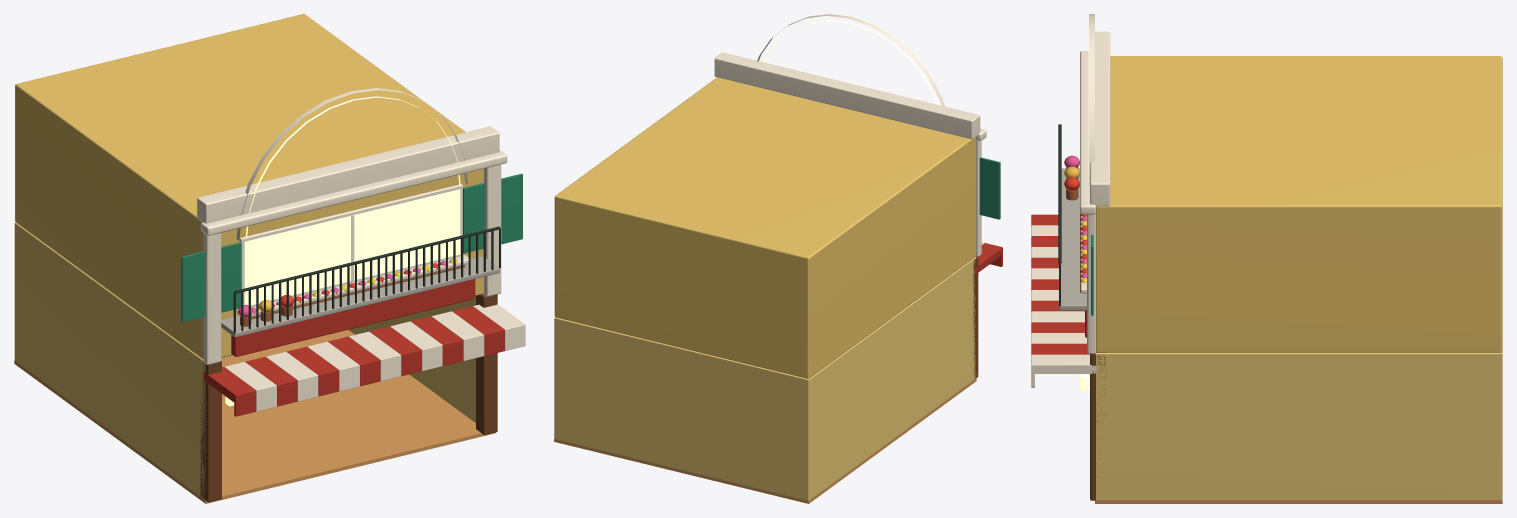
The model's file is shop_open_7.glb.
The picture shows the model from 3 angles, left to right: view 1: azimuth 30°, elevation 25°; view 2: azimuth 150°, elevation 25°; view 3: azimuth 270°, elevation 25°; orthographic projection. The views are drawn at different scales.
Visible parts, largest first — view 1: UpShell, WallL, Floor, UWGlass, UpPar, SignBoard, UCornice, UBSlab, WallR, UWShut, UWShut.001, Pillar1 (+23 smaller); view 2: UpShell, WallBack, WallL, UpPar, Floor, UWShut, UWArch, Pillar1, UPil-0.06; view 3: UpShell, WallR, UpPar, UBSlab, Floor, UCornice, Awn13, UPil6.7, WallBack, Pillar2, UWArch, Awn12 (+4 smaller).
Boxes of the visible parts, box(x1,y1,x2,y2) form: UpShell: box(15, 14, 483, 359); WallL: box(14, 222, 205, 499); Floor: box(14, 330, 495, 503); UWGlass: box(244, 189, 460, 305); UpPar: box(197, 126, 499, 223); SignBoard: box(231, 279, 475, 356); UCornice: box(201, 150, 507, 235); UBSlab: box(221, 256, 499, 337); WallR: box(348, 296, 475, 422); UWShut: box(181, 242, 241, 321); UWShut.001: box(463, 173, 522, 253); Pillar1: box(200, 361, 221, 502); UpShell: box(554, 77, 975, 378); WallBack: box(554, 317, 812, 500); WallL: box(802, 257, 976, 499); UpPar: box(714, 52, 980, 139); Floor: box(554, 378, 976, 503); UWShut: box(979, 157, 1000, 219); UWArch: box(757, 14, 944, 107); Pillar1: box(972, 256, 978, 378); UPil-0.06: box(976, 140, 981, 256); UpShell: box(1096, 56, 1502, 352); WallR: box(1095, 352, 1502, 500); UpPar: box(1090, 31, 1110, 206); UBSlab: box(1059, 168, 1086, 310); Floor: box(1095, 500, 1502, 503); UCornice: box(1080, 51, 1095, 214); Awn13: box(1034, 354, 1099, 373); UPil6.7: box(1087, 213, 1095, 353); WallBack: box(1493, 351, 1502, 500); Pillar2: box(1090, 352, 1105, 500); UWArch: box(1089, 14, 1094, 186); Awn12: box(1034, 343, 1089, 354).
Bounding box in the file's own units: 8.22 × 8.7 × 9.25.
